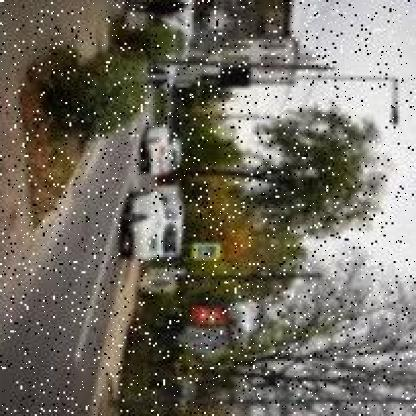Pedestrian Crossing: (191, 249, 219, 257)
